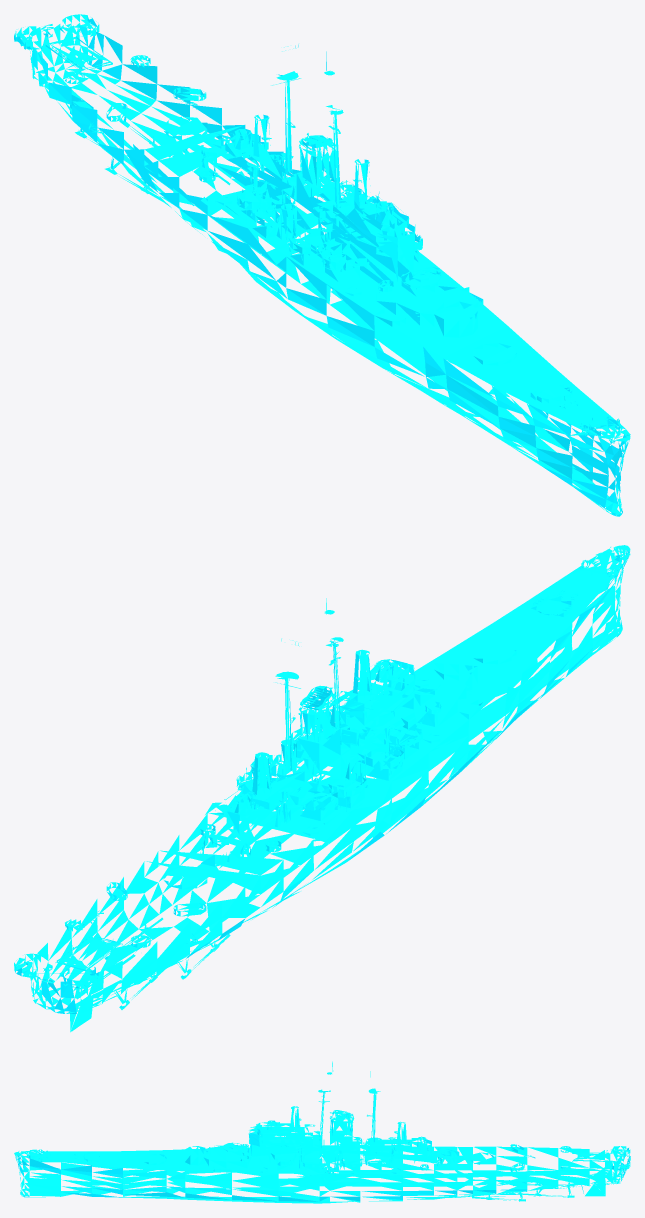
The model's file is Des_Moines.glb.
3 renders of one model, top to bottom at view 1: azimuth 30°, elevation 25°; view 2: azimuth 150°, elevation 25°; view 3: azimuth 270°, elevation 25°, orthographic. The views are drawn at different scales.
Size of the model in its own units: 1.73 by 3.52 by 14.54.
